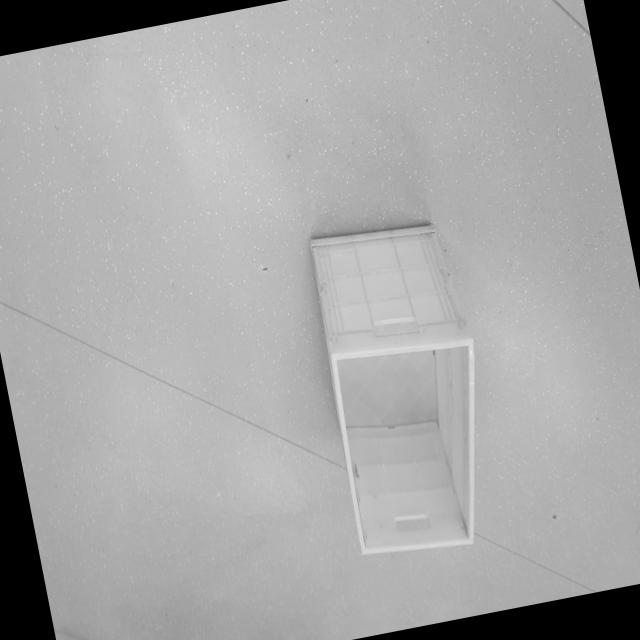box: (294, 193, 524, 582)
